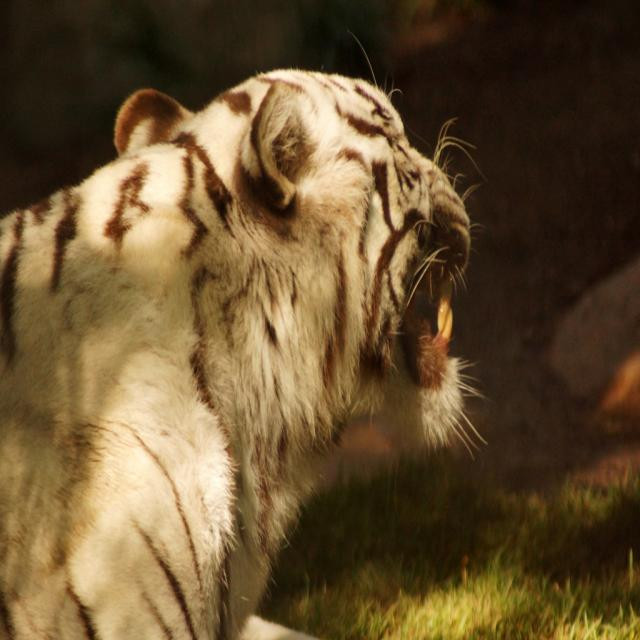Tiger: (1, 86, 473, 640)
